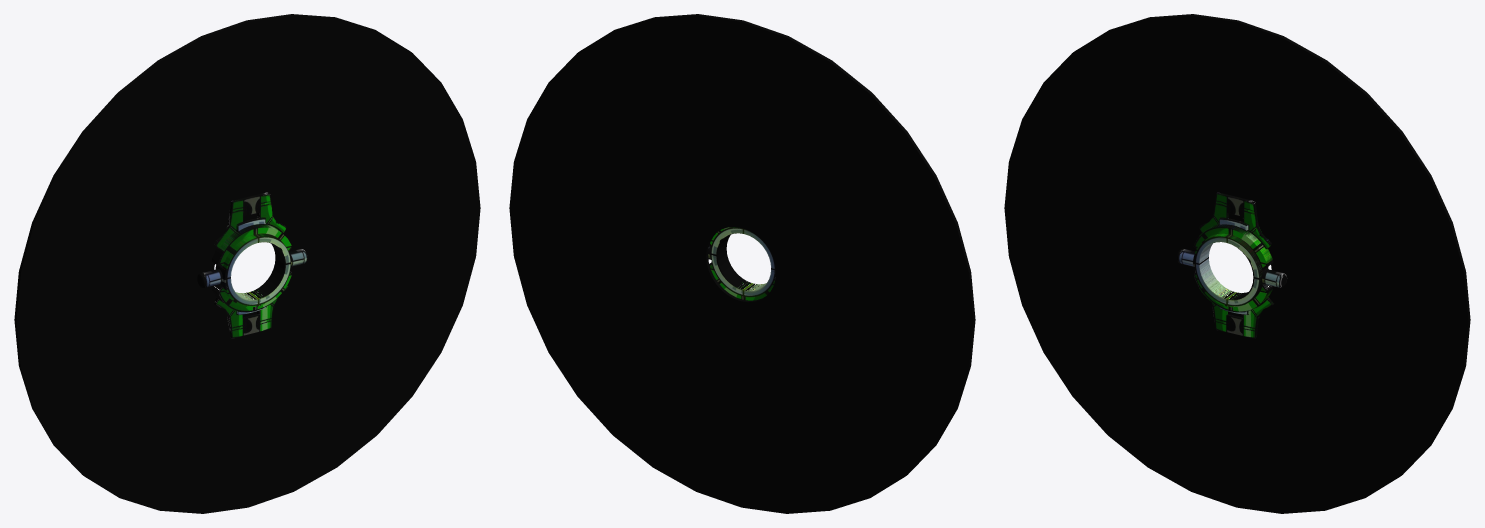
3 renders of one model, left to right at view 1: azimuth 30°, elevation 25°; view 2: azimuth 150°, elevation 25°; view 3: azimuth 330°, elevation 25°, orthographic.
Visible parts, largest first — view 1: Circle; view 2: Circle; view 3: Circle.
Boxes of the visible parts, x1,y1,x2,y2 form: Circle: (14,14,480,513); Circle: (509,14,975,513); Circle: (1004,14,1470,513).
Bounding box in the file's own units: 18.74 × 18.74 × 0.821.
Materials: 2 (1 with a texture image).
